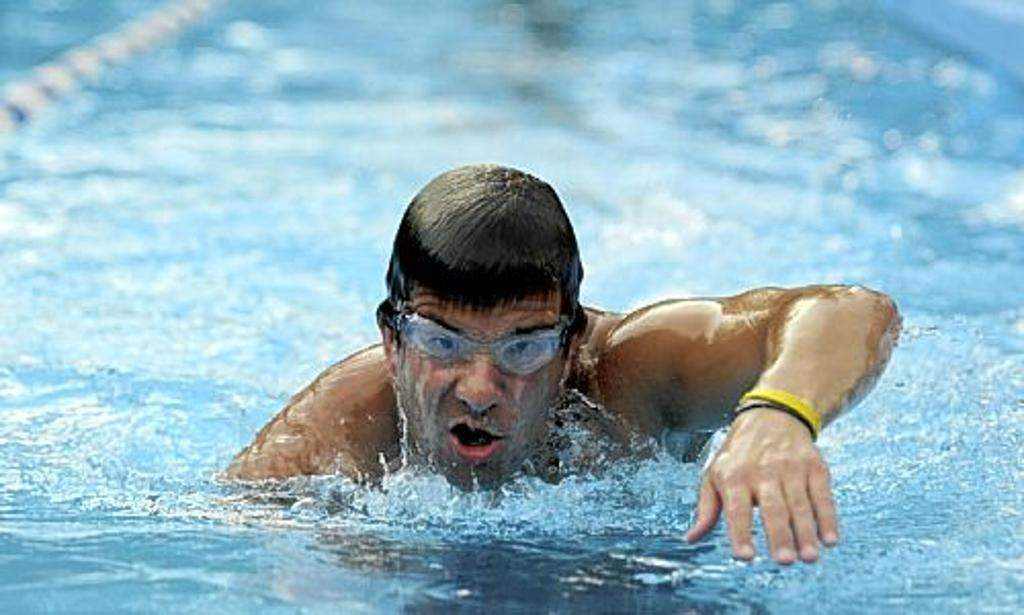face: (404, 284, 560, 488)
